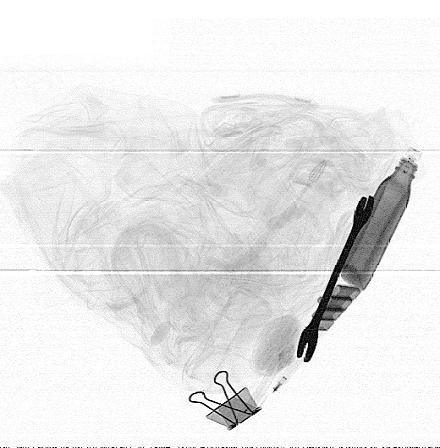Wrench: (298, 191, 374, 364)
